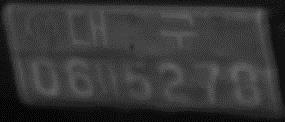0: (30, 56, 61, 97)
2: (156, 59, 191, 105)
5: (121, 57, 155, 101)
6: (64, 57, 95, 98)
7: (193, 58, 223, 110)
8: (227, 61, 265, 109)
다: (93, 60, 122, 97)
대구_D: (64, 6, 200, 53)
영: (23, 6, 59, 45)
